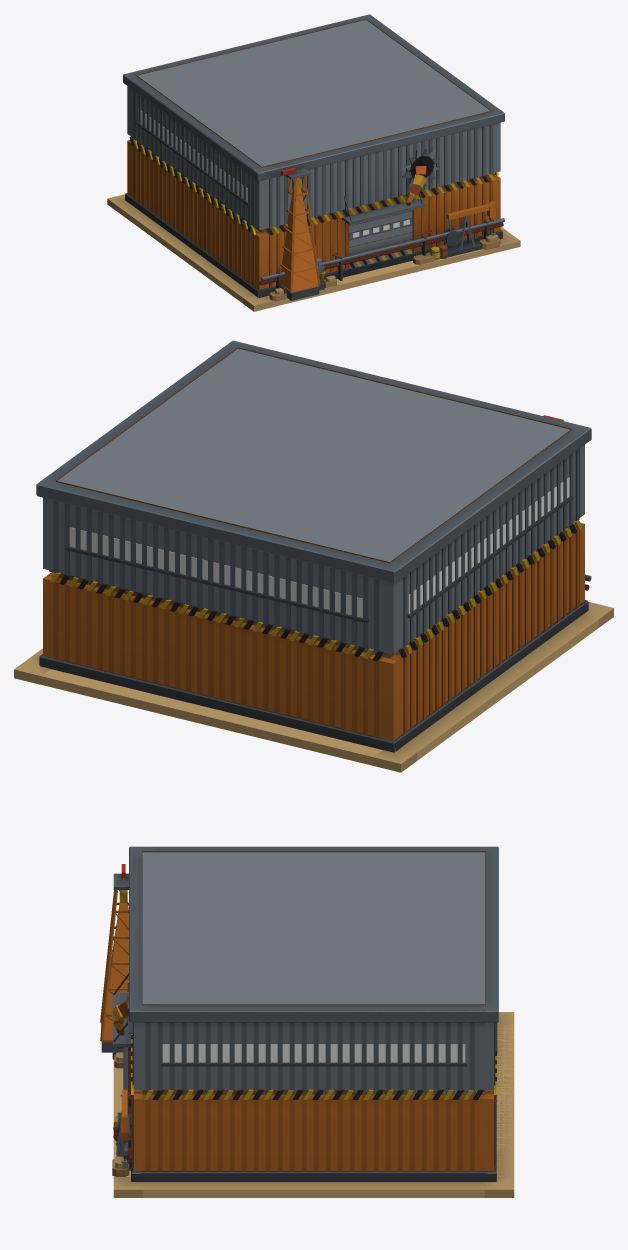
File: DrillWormFloor.fbx
3 views of the same model, one above another, from view 1: azimuth 30°, elevation 25°; view 2: azimuth 150°, elevation 25°; view 3: azimuth 270°, elevation 25° (orthographic). The views are drawn at different scales.
Visible parts, largest first — view 1: OR_S_All, OR_F_Smooth, OR_F_Rings, OR_F_Quiet, OR_F_Props, OR_F_Glass; view 2: OR_S_All, OR_F_Smooth, OR_F_Rings, OR_F_Glass, OR_F_Quiet; view 3: OR_S_All, OR_F_Rings, OR_F_Smooth, OR_F_Quiet, OR_F_Glass, OR_F_Props.
Part boxes in pixels (x1,y1,x2,y2): OR_S_All: (110, 20, 520, 311); OR_F_Smooth: (107, 74, 520, 311); OR_F_Rings: (123, 14, 504, 289); OR_F_Quiet: (108, 193, 519, 305); OR_F_Props: (280, 157, 496, 293); OR_F_Glass: (138, 108, 409, 237); OR_S_All: (15, 348, 613, 772); OR_F_Smooth: (14, 415, 613, 772); OR_F_Rings: (36, 340, 591, 740); OR_F_Glass: (69, 477, 569, 617); OR_F_Quiet: (14, 600, 613, 763); OR_S_All: (101, 852, 514, 1197); OR_F_Rings: (123, 846, 498, 1171); OR_F_Smooth: (100, 847, 513, 1197); OR_F_Quiet: (112, 1012, 513, 1189); OR_F_Glass: (162, 1044, 465, 1062); OR_F_Props: (112, 873, 132, 1168).
Size of the model in its own units: 60 by 20 by 60.
